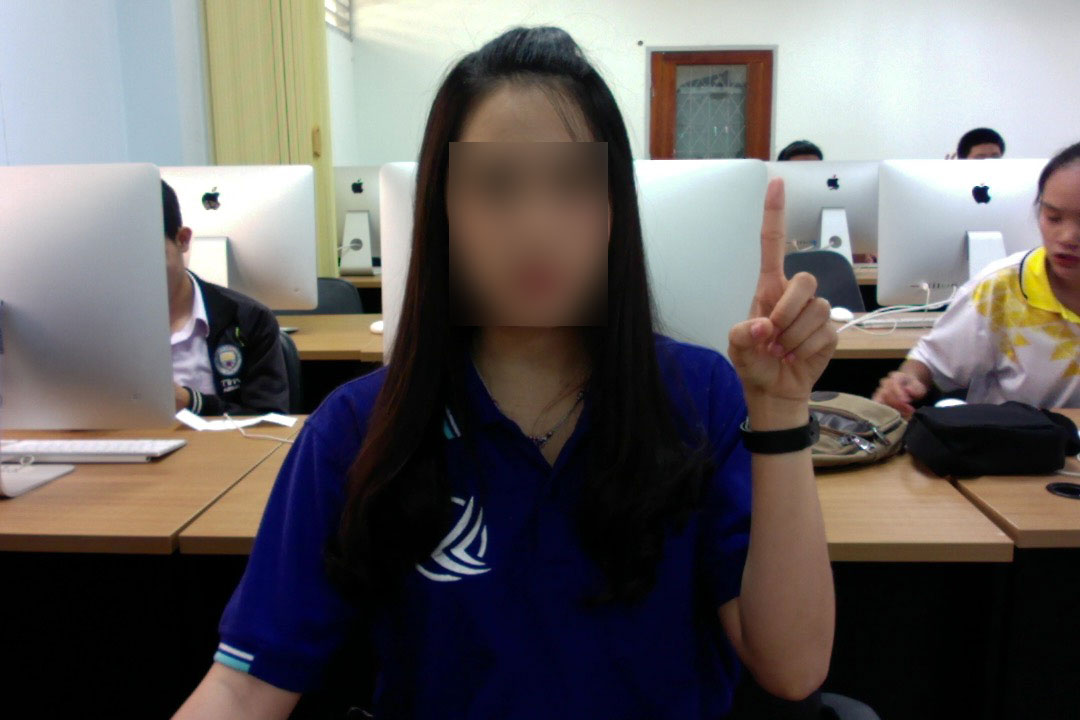dor: (710, 172, 846, 414)
